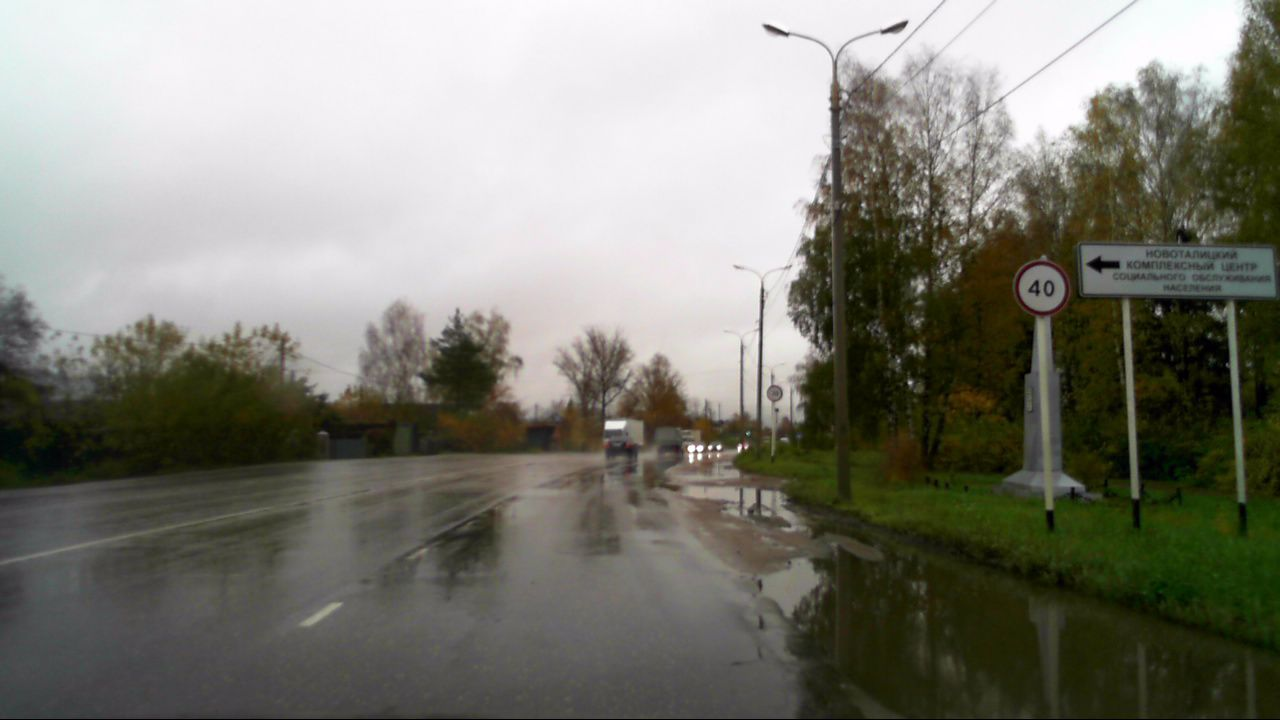speed_warning_40: (1011, 258, 1072, 315)
